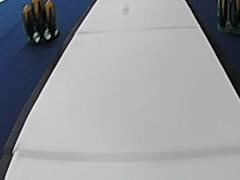corn: (20, 0, 61, 45), (213, 0, 240, 34)
